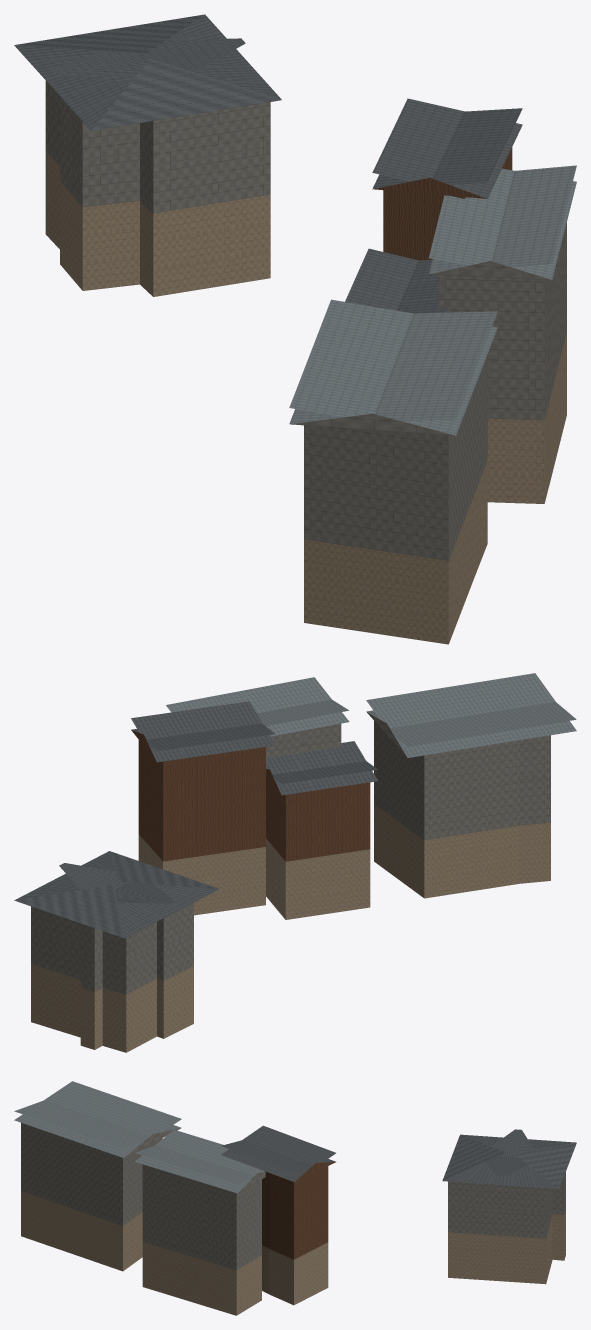
File: bld_c38_-12_541.gltf
3 renders of one model, top to bottom at view 1: azimuth 30°, elevation 25°; view 2: azimuth 150°, elevation 25°; view 3: azimuth 270°, elevation 25°, orthographic. The views are drawn at different scales.
Parts seen in each view (by area): view 1: bld_c38_-12_541; view 2: bld_c38_-12_541; view 3: bld_c38_-12_541.
Part boxes in pixels (x1,y1,x2,y2): bld_c38_-12_541: (14,14,576,644); bld_c38_-12_541: (14,673,576,1052); bld_c38_-12_541: (14,1081,576,1315).
Size of the model in its own units: 28.03 by 16.7 by 57.05.
Materials: 7 (7 with a texture image).
